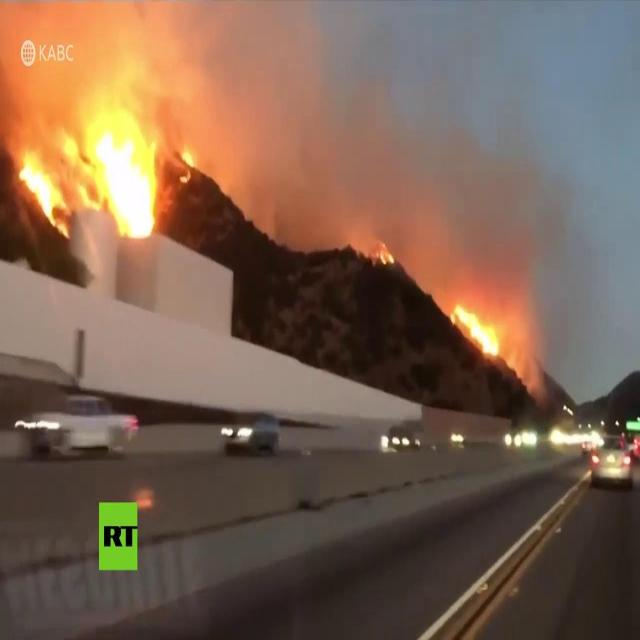Fire: (21, 115, 156, 244), (450, 307, 498, 360), (181, 151, 194, 182), (380, 250, 396, 265)
